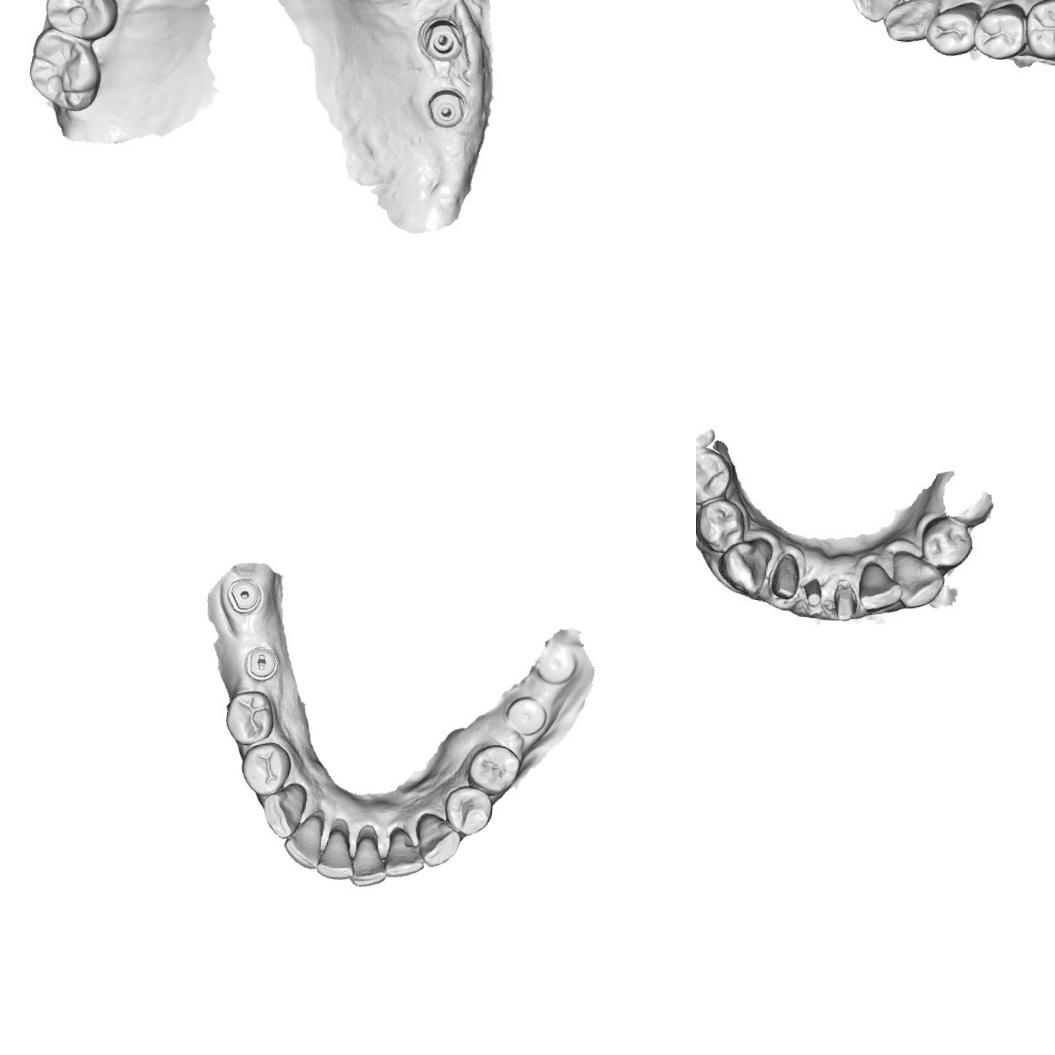abutment: (800, 574, 833, 611)
canine: (716, 532, 776, 596), (887, 546, 945, 610), (256, 777, 310, 843), (410, 809, 464, 871), (880, 0, 937, 45)
crown: (769, 551, 804, 604), (830, 576, 862, 623)
implant: (414, 11, 470, 66), (424, 82, 470, 136), (502, 693, 550, 740), (533, 640, 580, 687), (226, 575, 265, 616)
implant_minus: (242, 644, 280, 684)
incisor: (280, 810, 328, 872), (856, 562, 905, 618), (381, 826, 429, 882), (314, 826, 360, 883), (348, 832, 390, 892), (845, 0, 904, 25)
molar: (24, 30, 104, 106), (1022, 0, 1055, 66)
premolar: (236, 737, 296, 800), (970, 0, 1029, 62), (222, 686, 278, 749), (463, 741, 524, 798), (917, 514, 973, 574), (440, 782, 496, 838), (922, 4, 977, 59), (44, 0, 115, 38), (696, 446, 740, 505), (698, 500, 744, 554)
